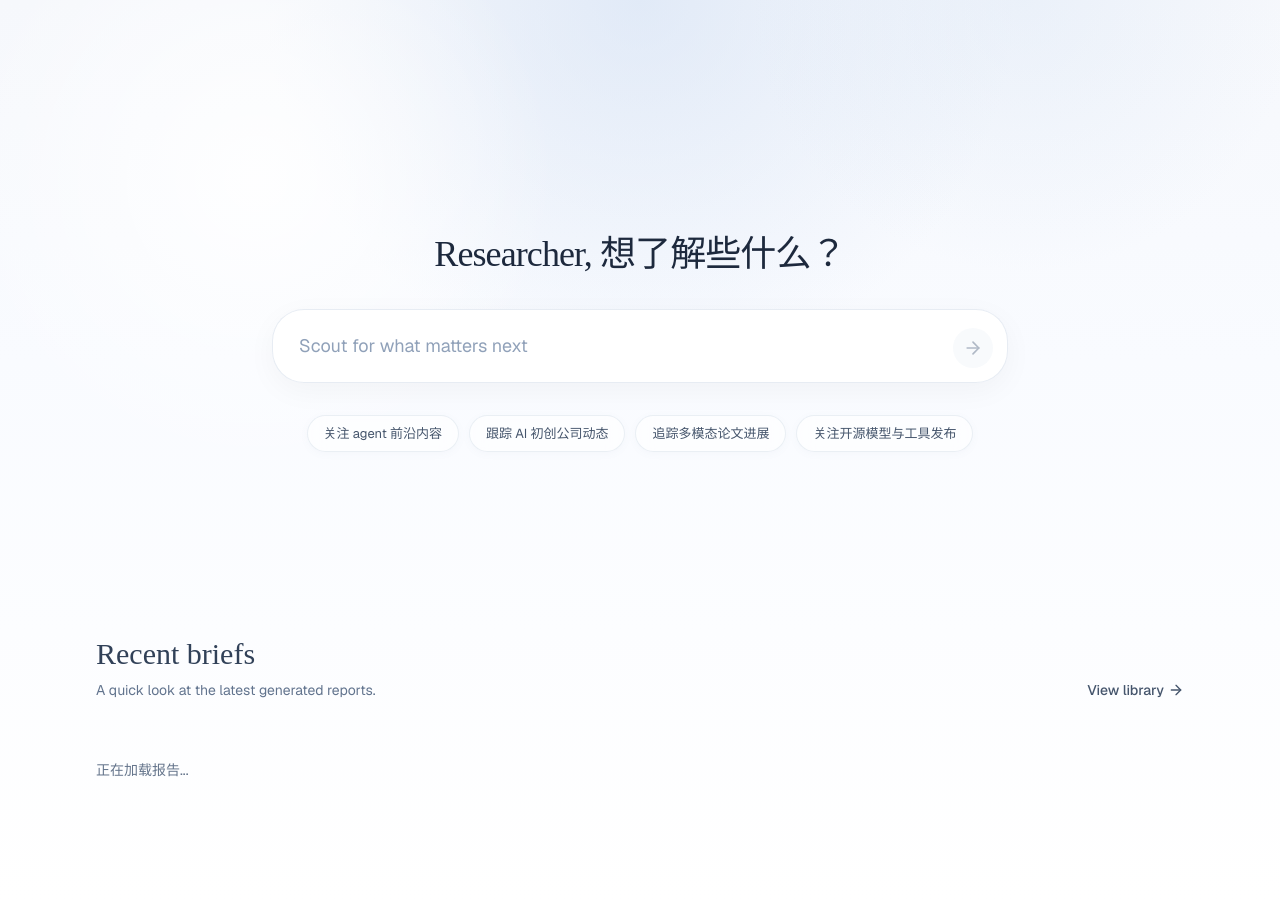
it: DiscoverPage › starts an inline inquiry thread and renders the clarify response as a chat turn
Type "track ai agents" into the text box with placeholder "Scout for what matters next".
click(614, 346); type("track ai agents")  # box [283, 320, 945, 372]
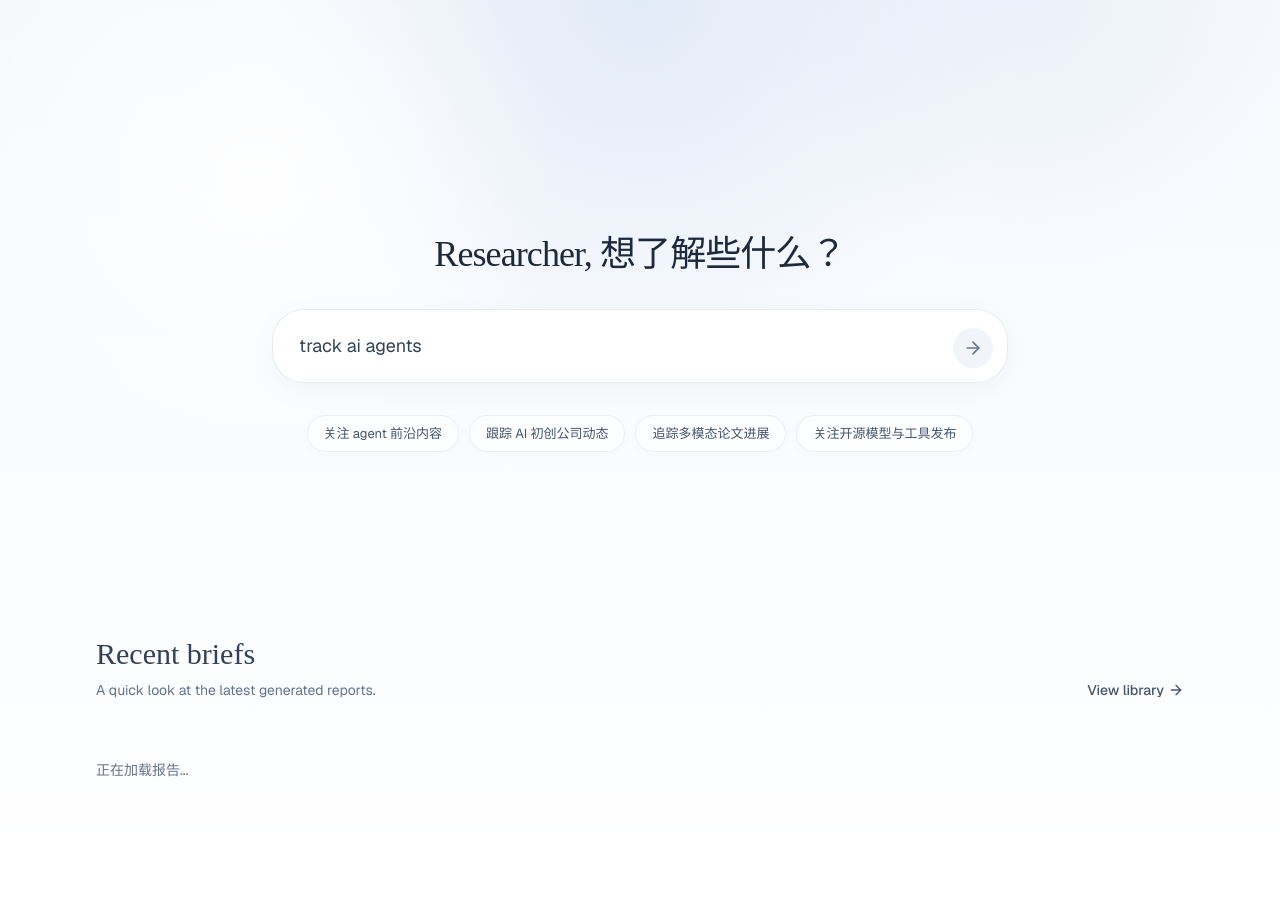
Press Enter in the text box with placeholder "Scout for what matters next", box [283, 320, 945, 372]
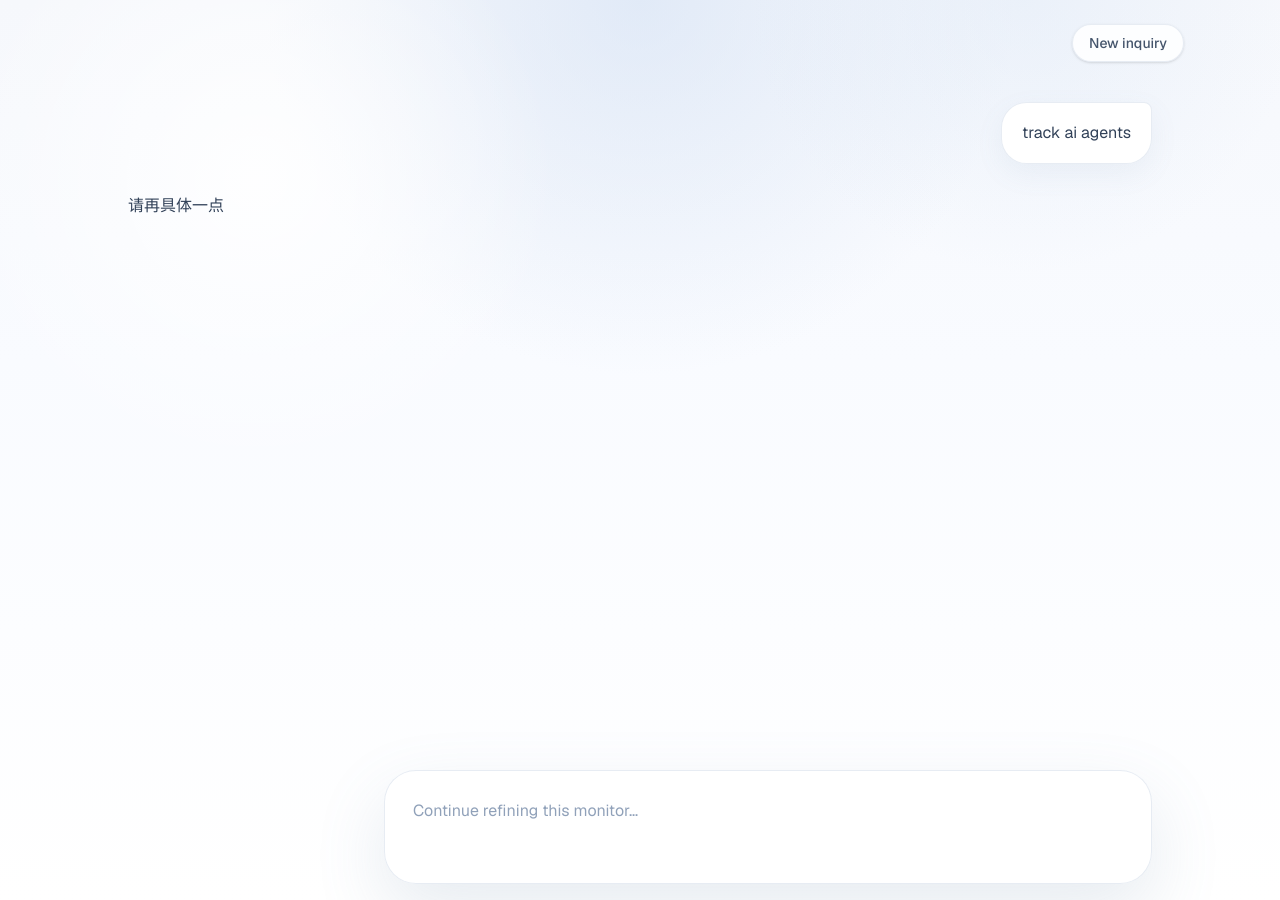
Check: the element named "Agent conversation" is shown, box [128, 102, 1152, 216]
Check: the text "track ai agents" is shown, box [1001, 102, 1152, 164]
Check: the text "请再具体一点" is shown, box [128, 190, 224, 222]
